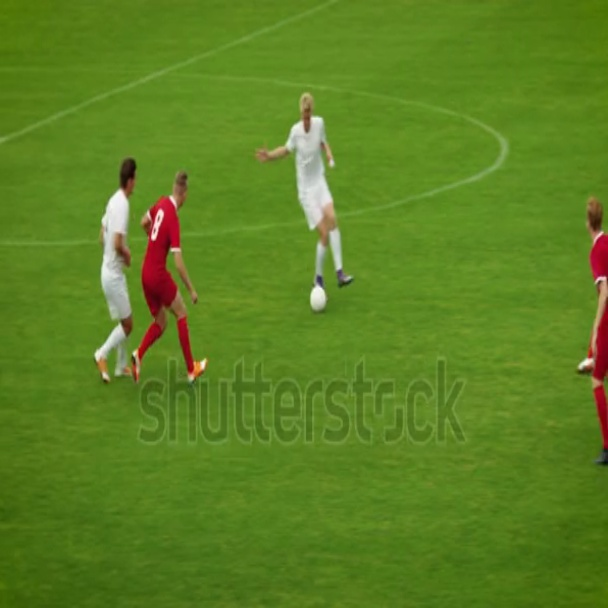ball: (312, 283, 329, 318)
